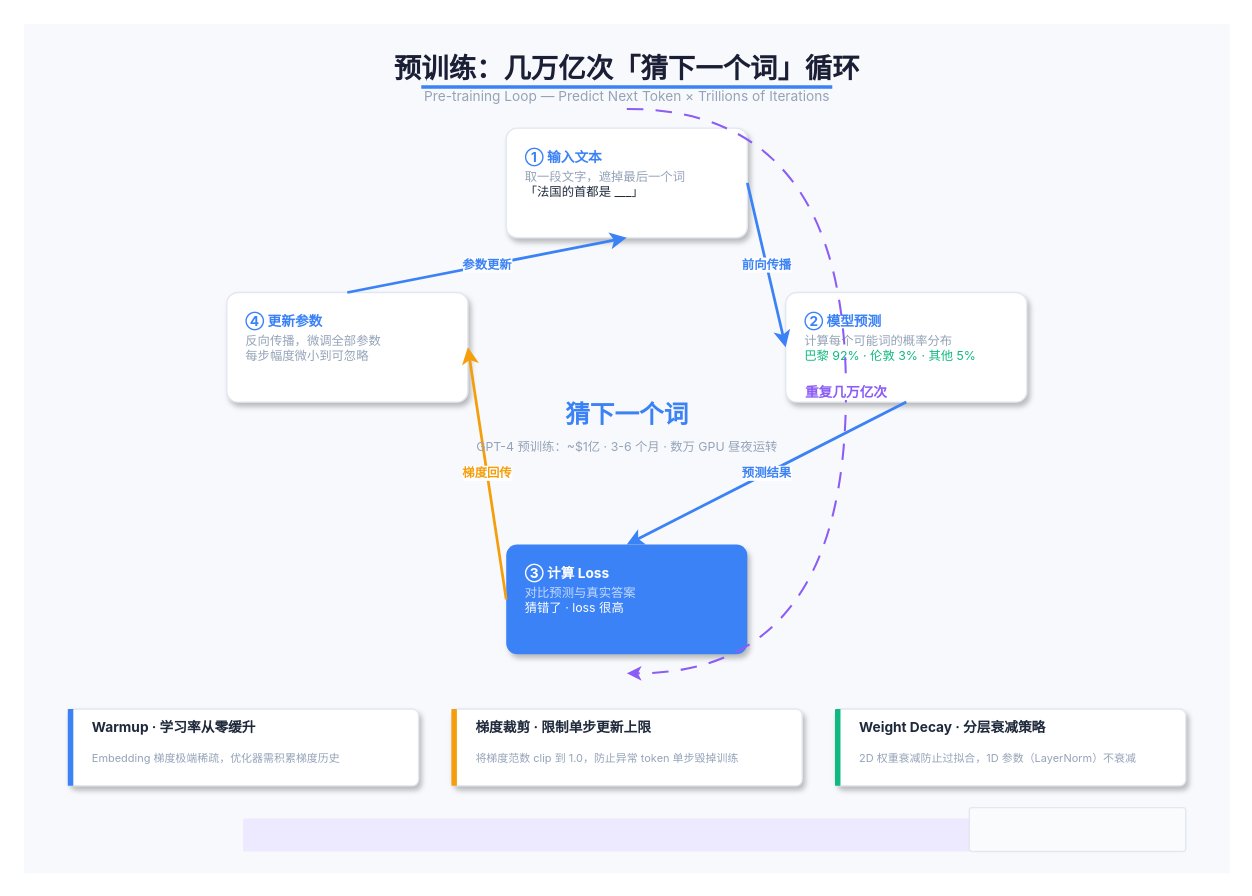
Image size: 1252x896. Some labels were removed from this diagram. Each missing label, with the centre of its shape:
"— 前向/更新 — 梯度回传 ··· 循环" belongs at [1077,828].
"模型从未被教过什么是语法或逻辑——所有能力都从「猜下一个词」中涌现" belongs at [626,834].
